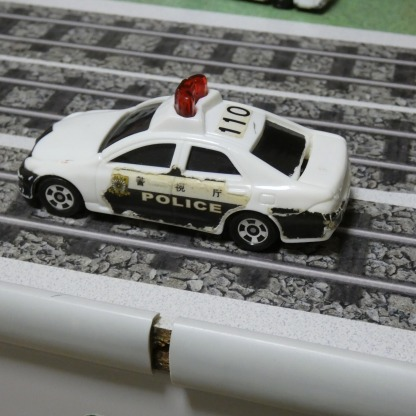car: (17, 73, 347, 251)
